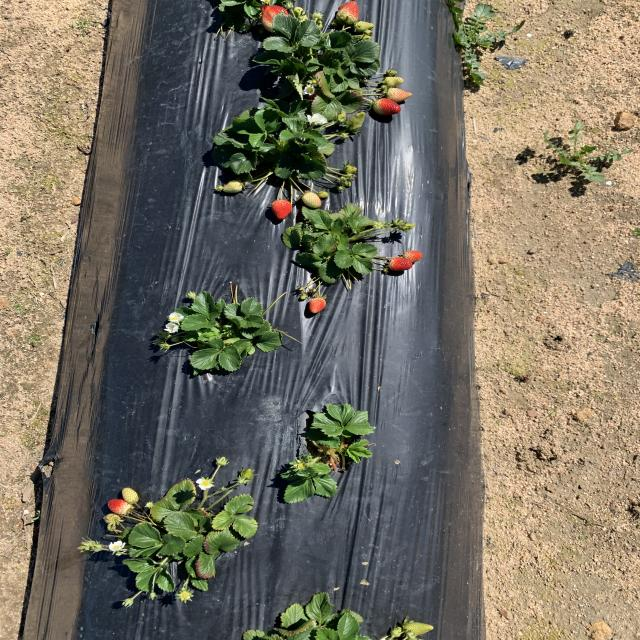unripe: (259, 4, 294, 30), (372, 99, 402, 116), (338, 0, 360, 23), (270, 198, 292, 219), (108, 498, 130, 516), (388, 258, 414, 272), (308, 298, 327, 313), (404, 251, 423, 263)
